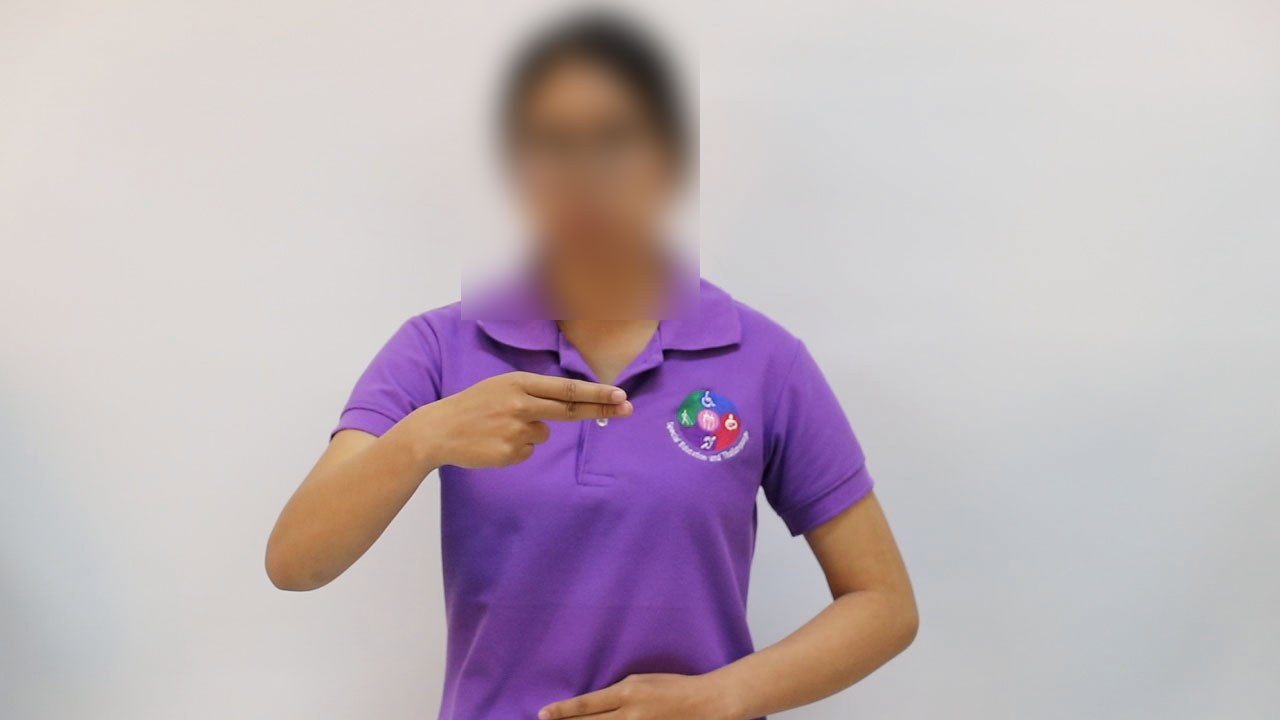hor: (391, 349, 645, 484)
